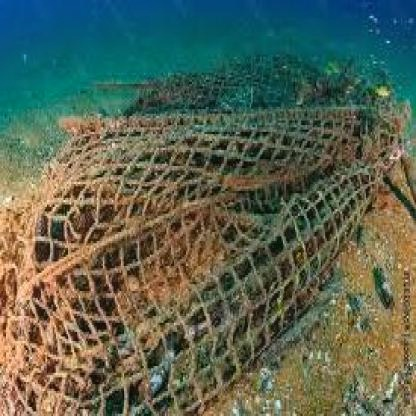net: (6, 93, 395, 414)
